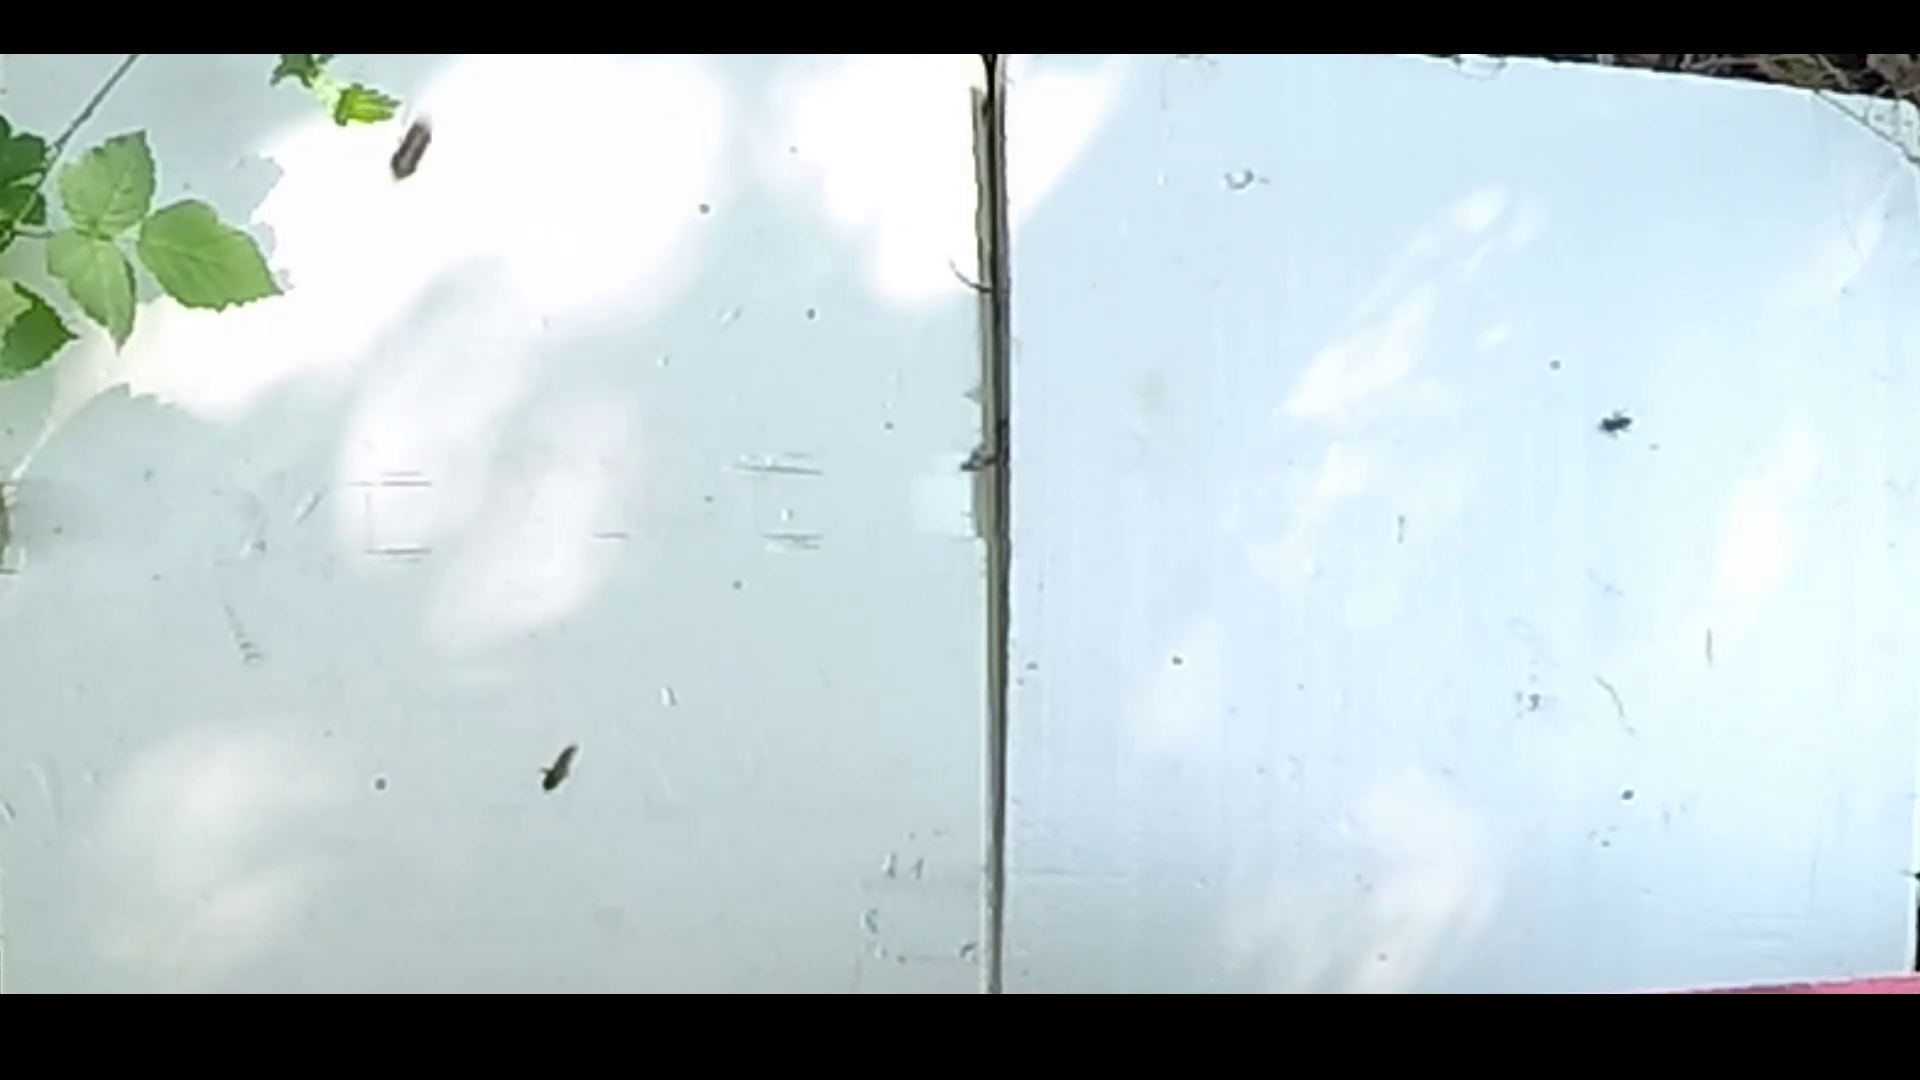Asian_hornets: (371, 96, 458, 200)
